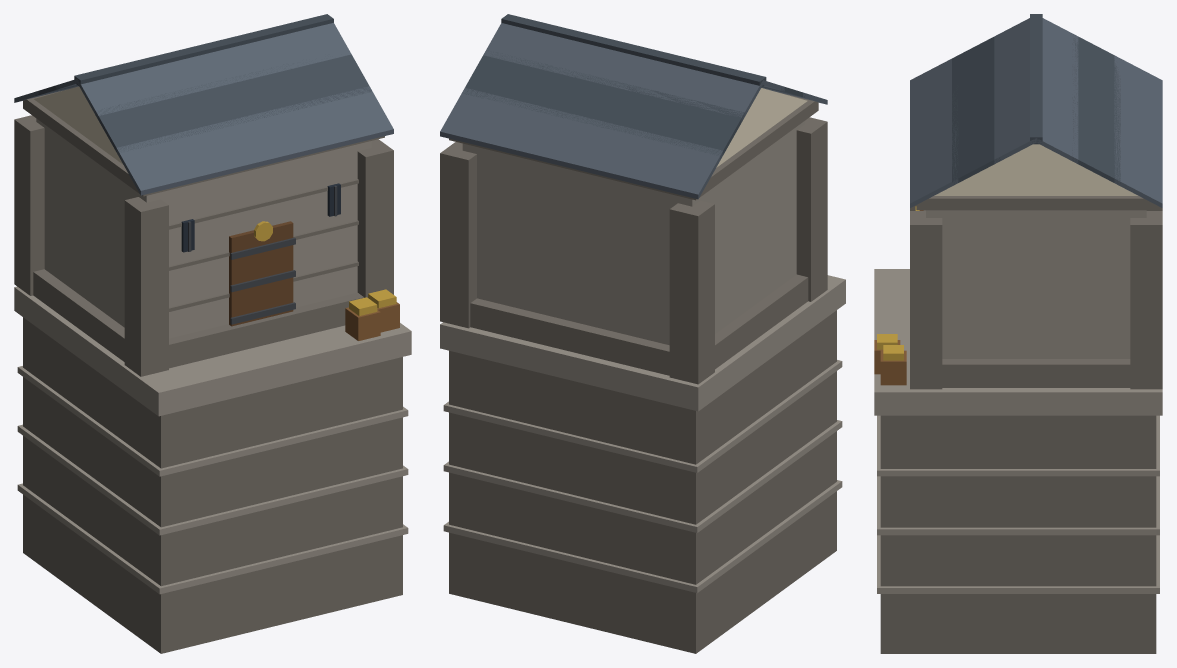
File: vault.glb
The picture shows the model from 3 angles, left to right: view 1: azimuth 30°, elevation 25°; view 2: azimuth 150°, elevation 25°; view 3: azimuth 270°, elevation 25°; orthographic projection. The views are drawn at different scales.
Parts seen in each view (by area): view 1: vault; view 2: vault; view 3: vault.
Part boxes in pixels (x1,y1,x2,y2): vault: (14,14,411,653); vault: (440,14,845,653); vault: (874,14,1162,653).
Size of the model in its own units: 4.5 by 8.84 by 4.45.
